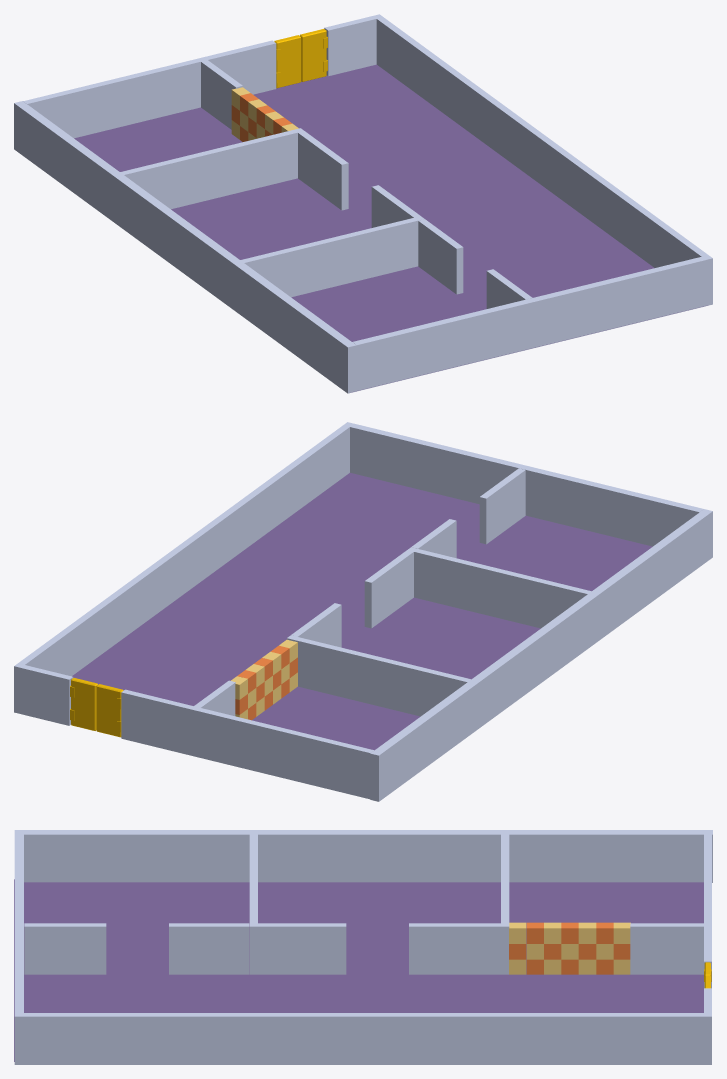
The model's file is maps44.fbx.
The picture shows the model from 3 angles, top to bottom: view 1: azimuth 30°, elevation 25°; view 2: azimuth 150°, elevation 25°; view 3: azimuth 270°, elevation 25°; orthographic projection. The views are drawn at different scales.
Visible parts, largest first — view 1: wall_01_08_geo, wall_01_07_geo, wall_01_05_geo, wall_01_06_geo1, wall_01_09_geo, wall_01_09_geo11, wall_01_09_geo12, wall_01_09_geo9, wall_01_09_geo17, wall_01_09_geo14, wall_01_09_geo16, polySurface161 (+3 smaller); view 2: wall_01_08_geo, wall_01_07_geo, wall_01_06_geo1, wall_01_05_geo, wall_01_09_geo, wall_01_09_geo11, wall_01_09_geo12, wall_01_09_geo13, wall_01_09_geo17, wall_01_09_geo15, polySurface161, wall_01_09_geo9 (+3 smaller); view 3: wall_01_08_geo, wall_01_06_geo1, wall_01_07_geo, wall_01_09_geo9, wall_01_09_geo13, wall_01_09_geo15, wall_01_09_geo14, wall_01_09_geo16, wall_01_05_geo, wall_01_09_geo11, wall_01_09_geo12, wall_01_09_geo (+7 smaller).
Part boxes in pixels (<box>): wall_01_08_geo: <box>74,64,707,392</box>; wall_01_07_geo: <box>14,101,356,393</box>; wall_01_05_geo: <box>352,257,706,391</box>; wall_01_06_geo1: <box>373,14,712,305</box>; wall_01_09_geo: <box>23,40,276,138</box>; wall_01_09_geo11: <box>240,216,424,297</box>; wall_01_09_geo12: <box>120,128,303,209</box>; wall_01_09_geo9: <box>298,131,348,210</box>; wall_01_09_geo17: <box>324,16,376,76</box>; wall_01_09_geo14: <box>418,219,463,294</box>; wall_01_09_geo16: <box>201,60,242,129</box>; polySurface161: <box>299,29,327,81</box>; wall_01_08_geo: <box>72,473,652,750</box>; wall_01_07_geo: <box>370,509,712,801</box>; wall_01_06_geo1: <box>14,422,353,713</box>; wall_01_05_geo: <box>350,423,703,546</box>; wall_01_09_geo: <box>121,689,373,799</box>; wall_01_09_geo11: <box>408,547,591,628</box>; wall_01_09_geo12: <box>287,635,471,716</box>; wall_01_09_geo13: <box>364,550,413,628</box>; wall_01_09_geo17: <box>20,665,73,725</box>; wall_01_09_geo15: <box>479,468,525,544</box>; polySurface161: <box>70,678,97,730</box>; wall_01_09_geo9: <box>291,603,341,647</box>; wall_01_08_geo: <box>14,879,703,1061</box>; wall_01_06_geo1: <box>14,1013,711,1064</box>; wall_01_07_geo: <box>14,830,712,882</box>; wall_01_09_geo9: <box>409,923,500,974</box>; wall_01_09_geo13: <box>257,923,346,974</box>; wall_01_09_geo15: <box>24,923,106,974</box>; wall_01_09_geo14: <box>169,923,249,974</box>; wall_01_09_geo16: <box>630,923,703,974</box>; wall_01_05_geo: <box>14,834,23,1012</box>; wall_01_09_geo11: <box>249,834,257,974</box>; wall_01_09_geo12: <box>501,834,509,974</box>; wall_01_09_geo: <box>704,834,711,988</box>.
Size of the model in its own units: 73.34 by 8.96 by 116.
3 materials, 3 textured.
